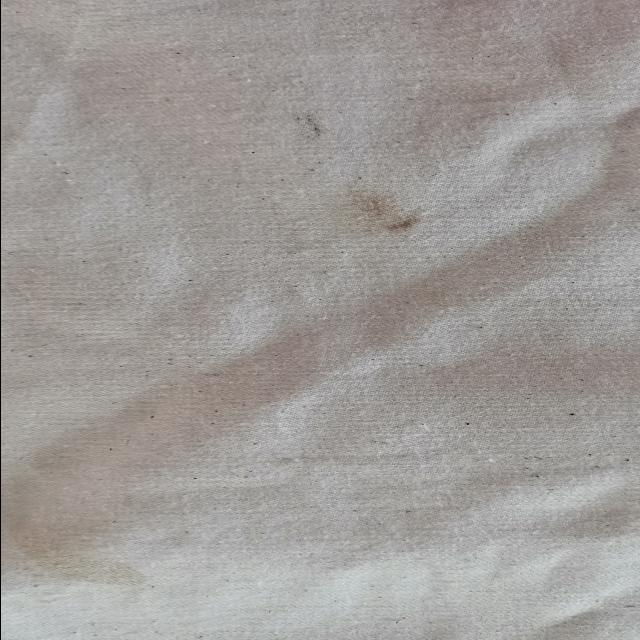taaaches: (322, 184, 451, 240), (265, 106, 339, 138)
